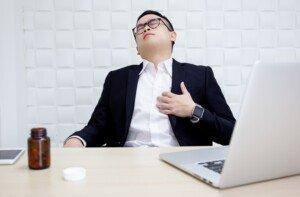pain: (131, 17, 163, 34)
